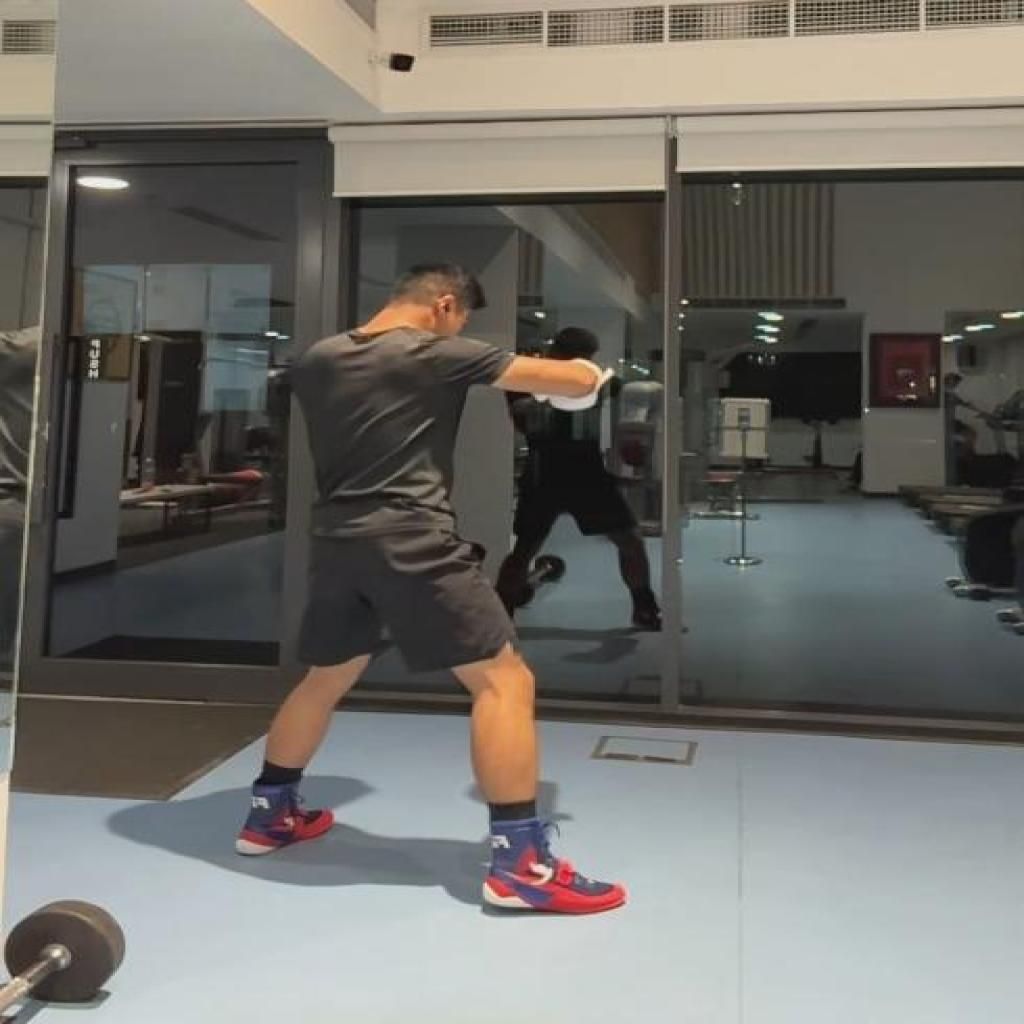hook: (236, 254, 629, 918)
